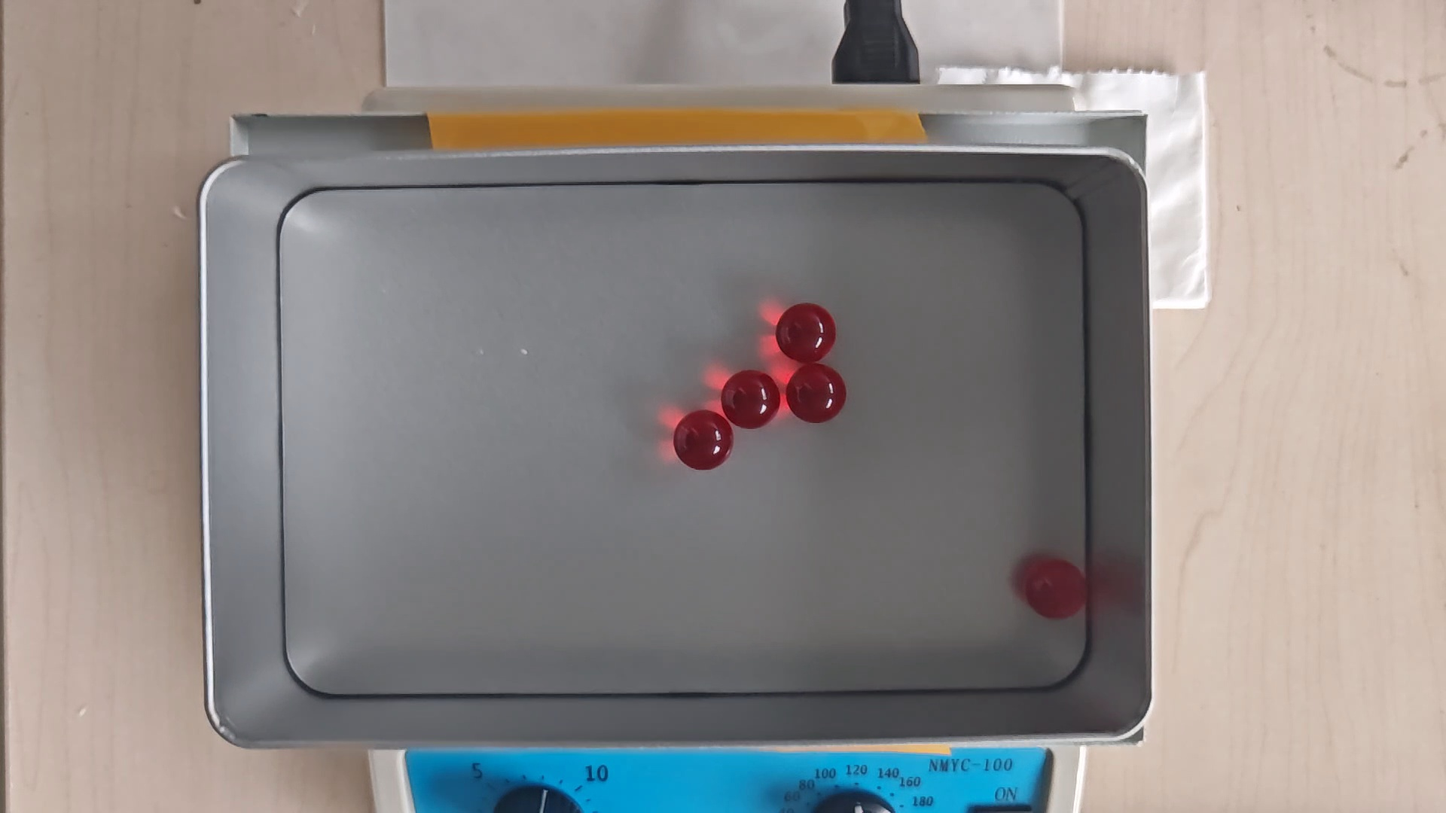ball: (1024, 557, 1088, 623), (675, 407, 732, 473), (777, 302, 835, 362), (789, 366, 848, 423), (721, 373, 778, 428)
container: (281, 181, 1087, 694)
